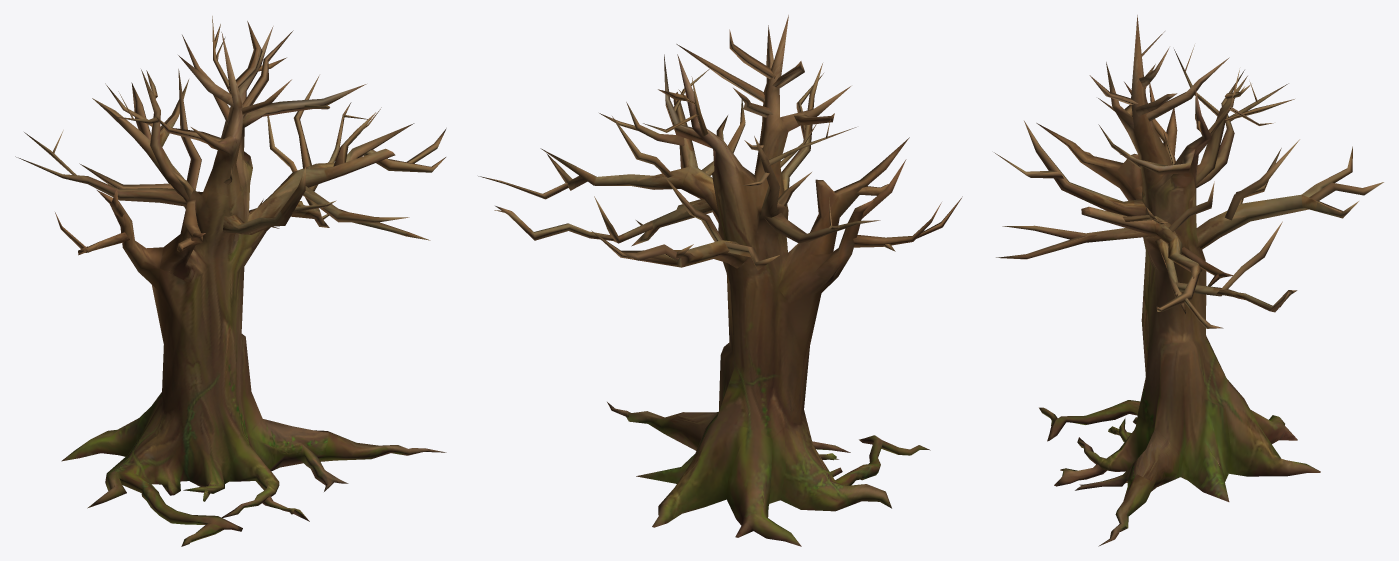
The model's file is scene_senlincaodi_tree04.FBX.
3 renders of one model, left to right at view 1: azimuth 30°, elevation 25°; view 2: azimuth 150°, elevation 25°; view 3: azimuth 270°, elevation 25°, orthographic. The views are drawn at different scales.
Visible parts, largest first — view 1: scene_senlincaodi_tree04; view 2: scene_senlincaodi_tree04; view 3: scene_senlincaodi_tree04.
Boxes of the visible parts, x1,y1,x2,y2 form: scene_senlincaodi_tree04: (15,16,446,546); scene_senlincaodi_tree04: (478,15,962,546); scene_senlincaodi_tree04: (994,15,1383,546).
Bounding box in the file's own units: 994 × 1037 × 818.
